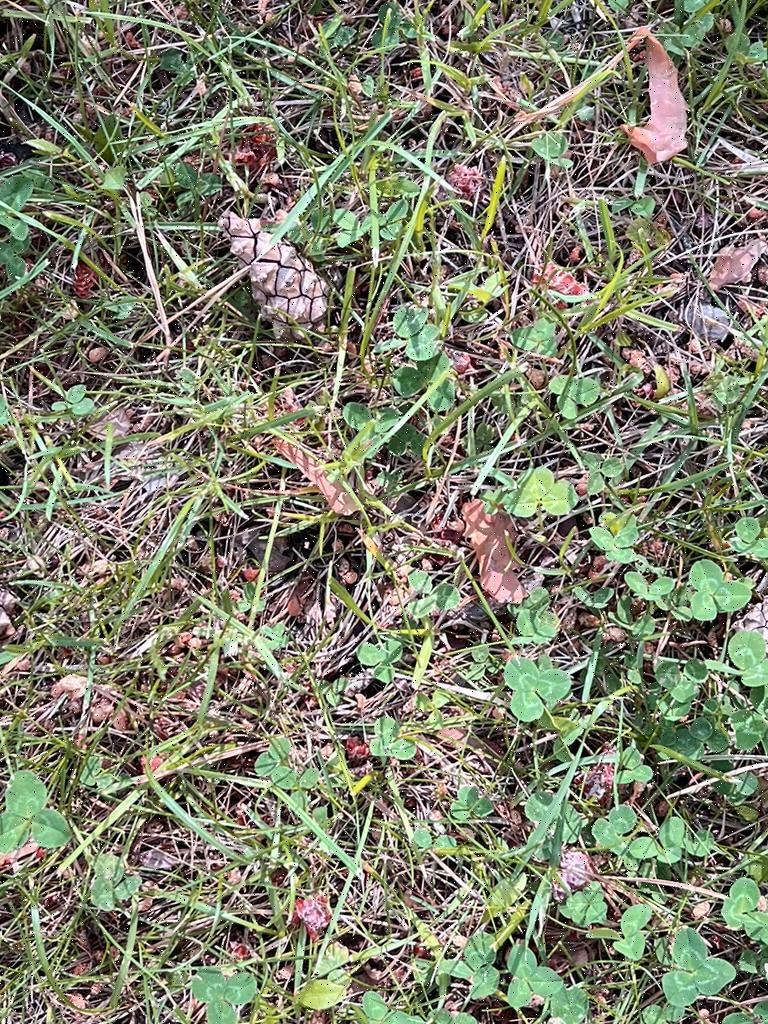pine: (211, 196, 341, 356), (711, 555, 768, 693)
